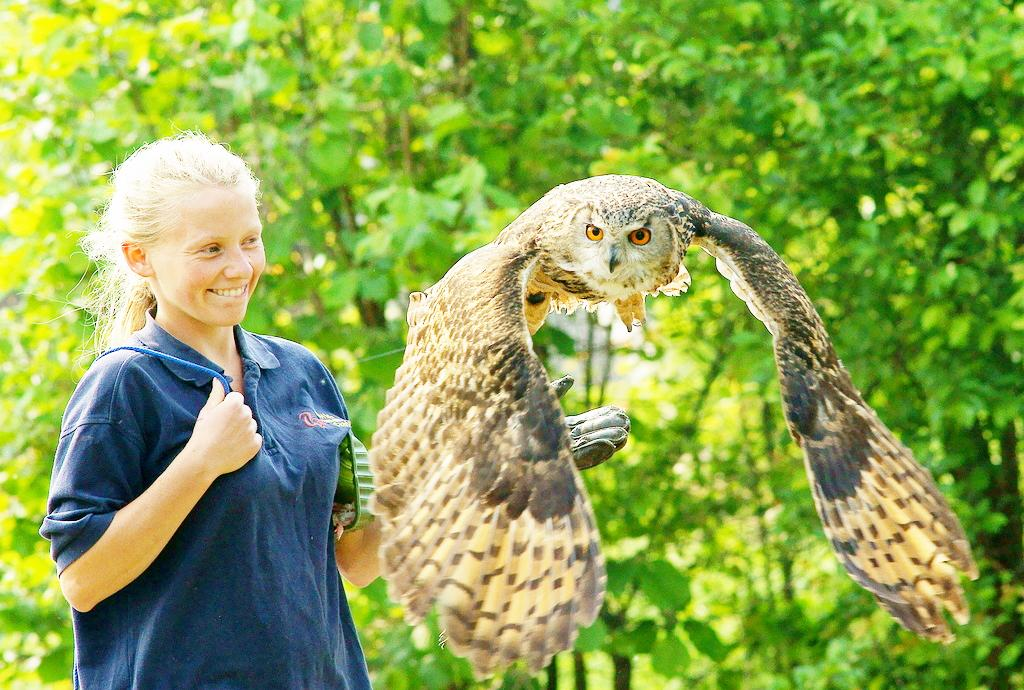Owl: (364, 175, 984, 686)
